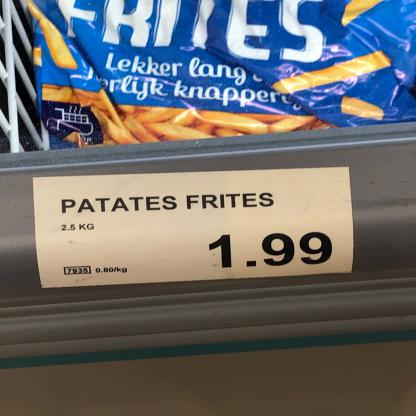prtg: (31, 167, 354, 290)
